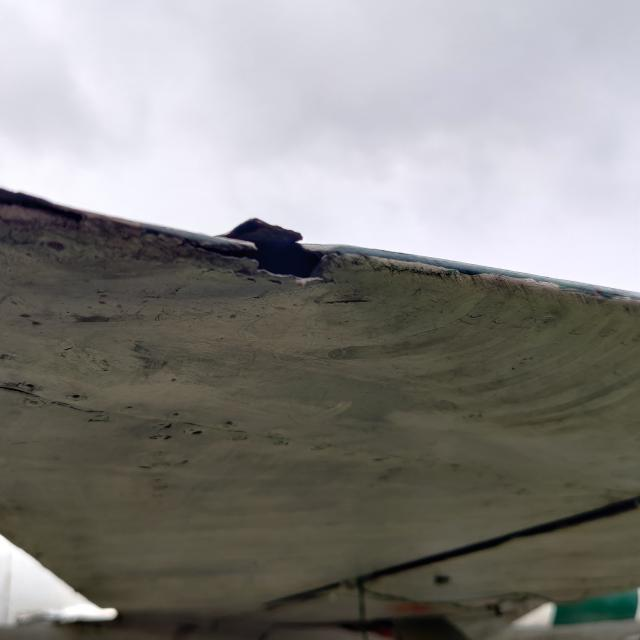Crack: (224, 218, 323, 276)
